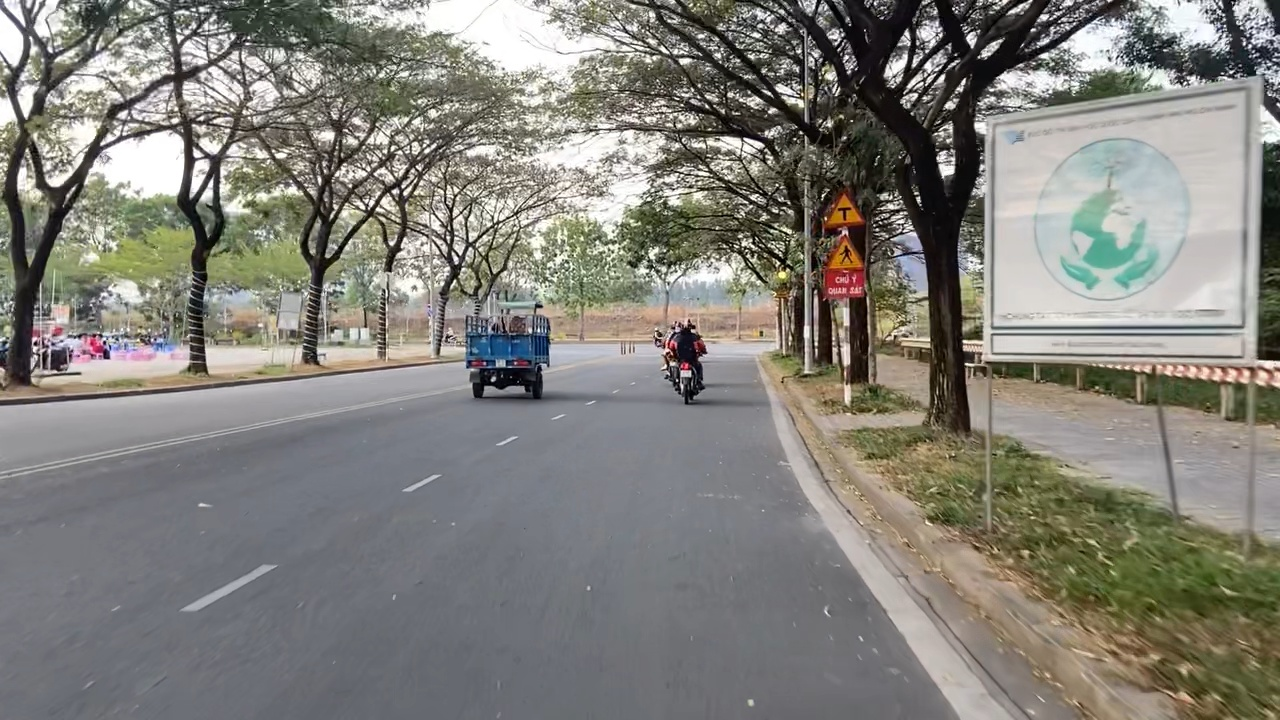can_than_nguoi_qua_duong: (824, 232, 867, 273)
giao_nhau_T: (822, 189, 866, 229)
